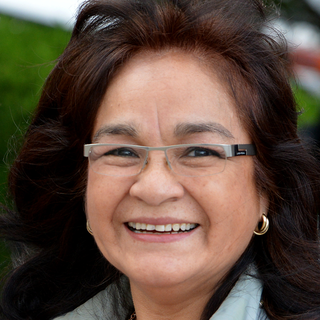eye: (178, 143, 224, 165), (100, 145, 143, 161)
